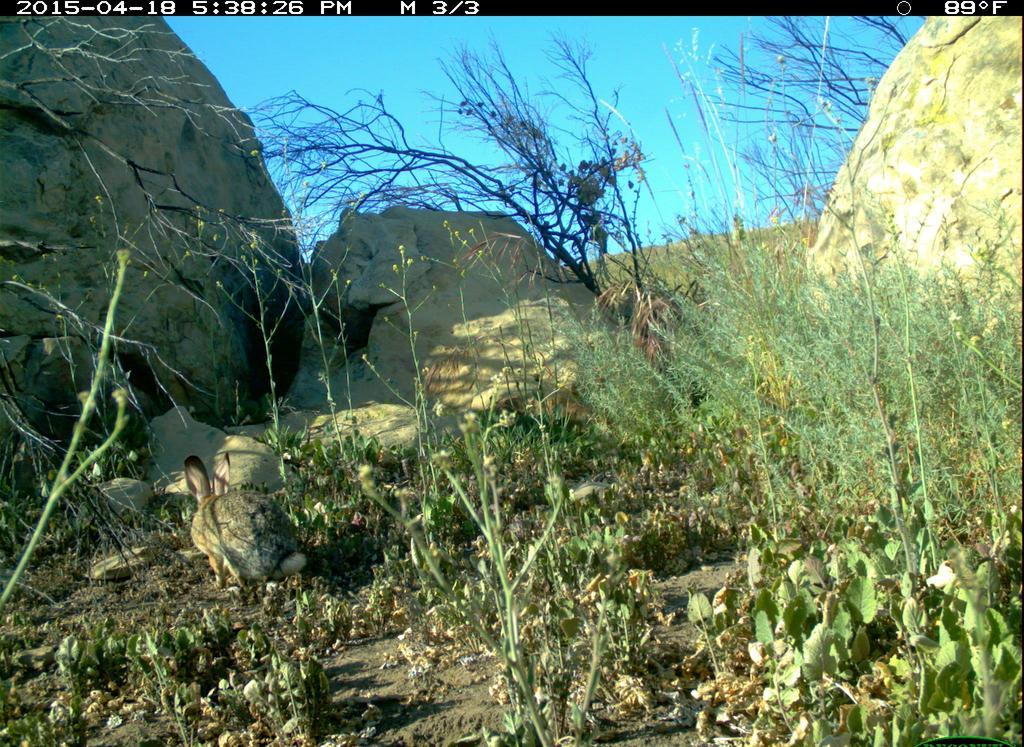rabbit: (176, 438, 332, 593)
